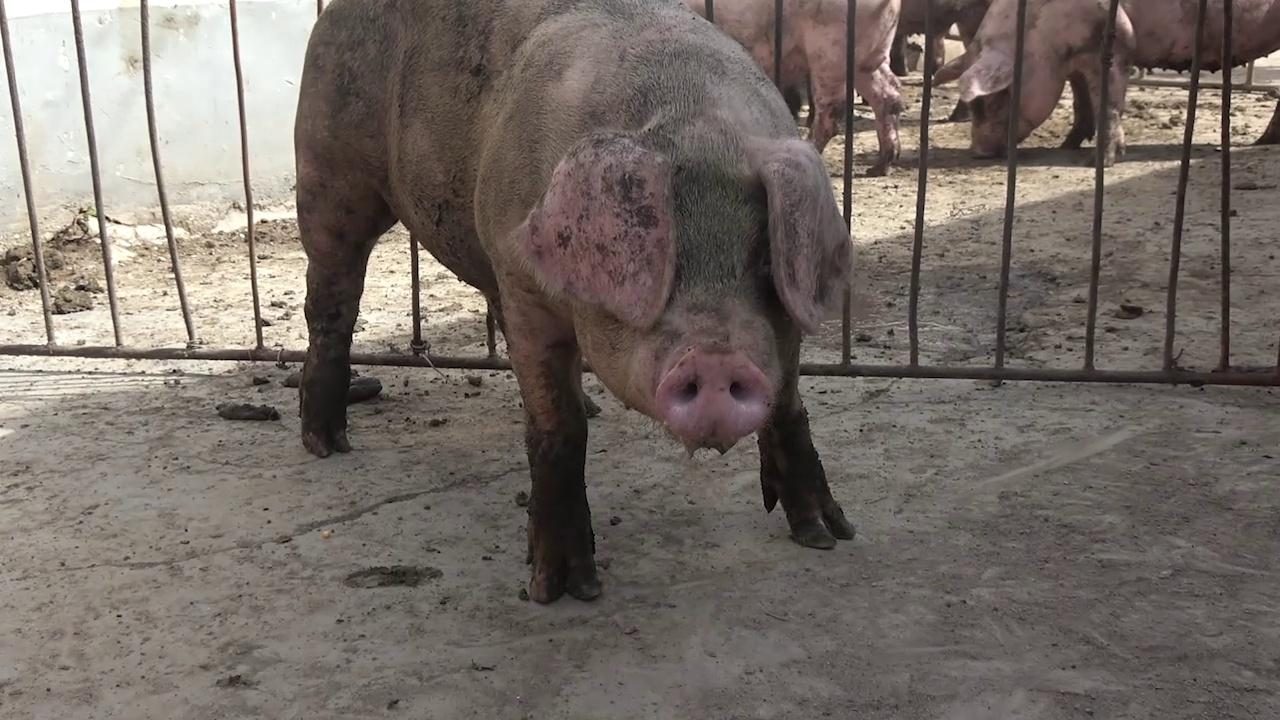Face: (509, 122, 870, 455)
